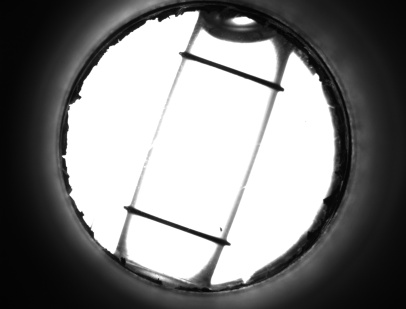line: (139, 207, 208, 244), (197, 52, 263, 88)
